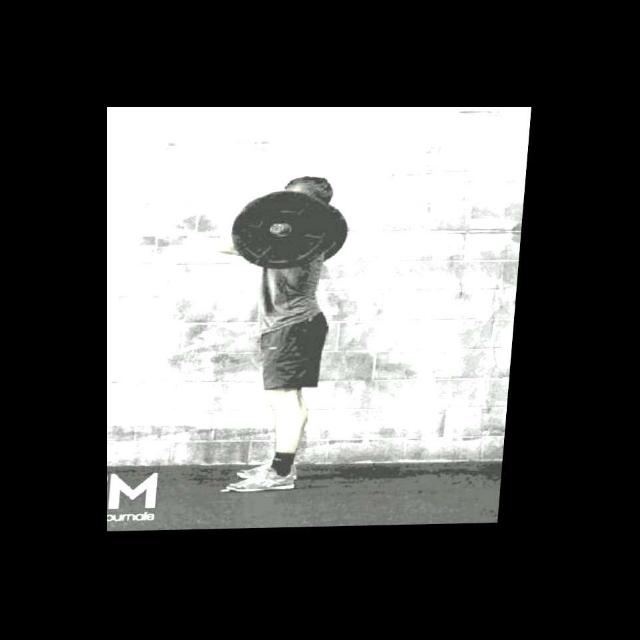barbell: (227, 187, 337, 274)
